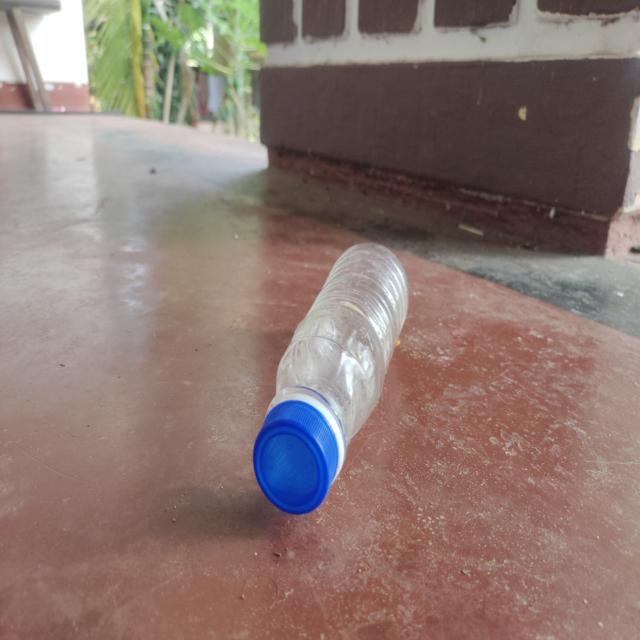plastic: (252, 236, 409, 513)
